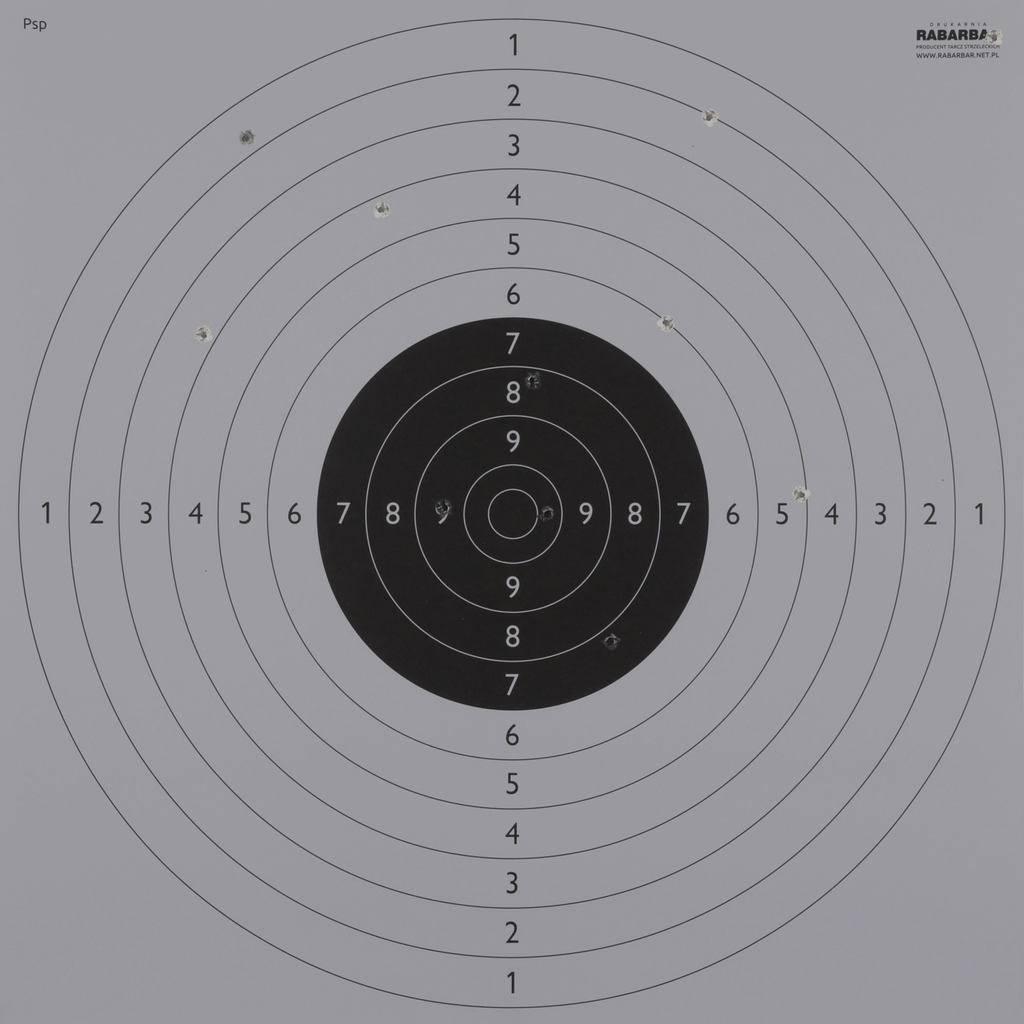0 punktow: (985, 28, 1003, 47)
1 punkt: (237, 129, 255, 147)
10 punktow: (538, 505, 556, 523)
2 punkty: (700, 108, 718, 126)
3 punkty: (194, 326, 213, 344)
4 punkty: (372, 200, 391, 219)
5 punktow: (792, 486, 810, 504)
6 punktow: (657, 314, 676, 332)
7 punktow: (601, 632, 620, 651)
8 punktow: (523, 371, 542, 390)
9 punktow: (436, 499, 454, 517)
